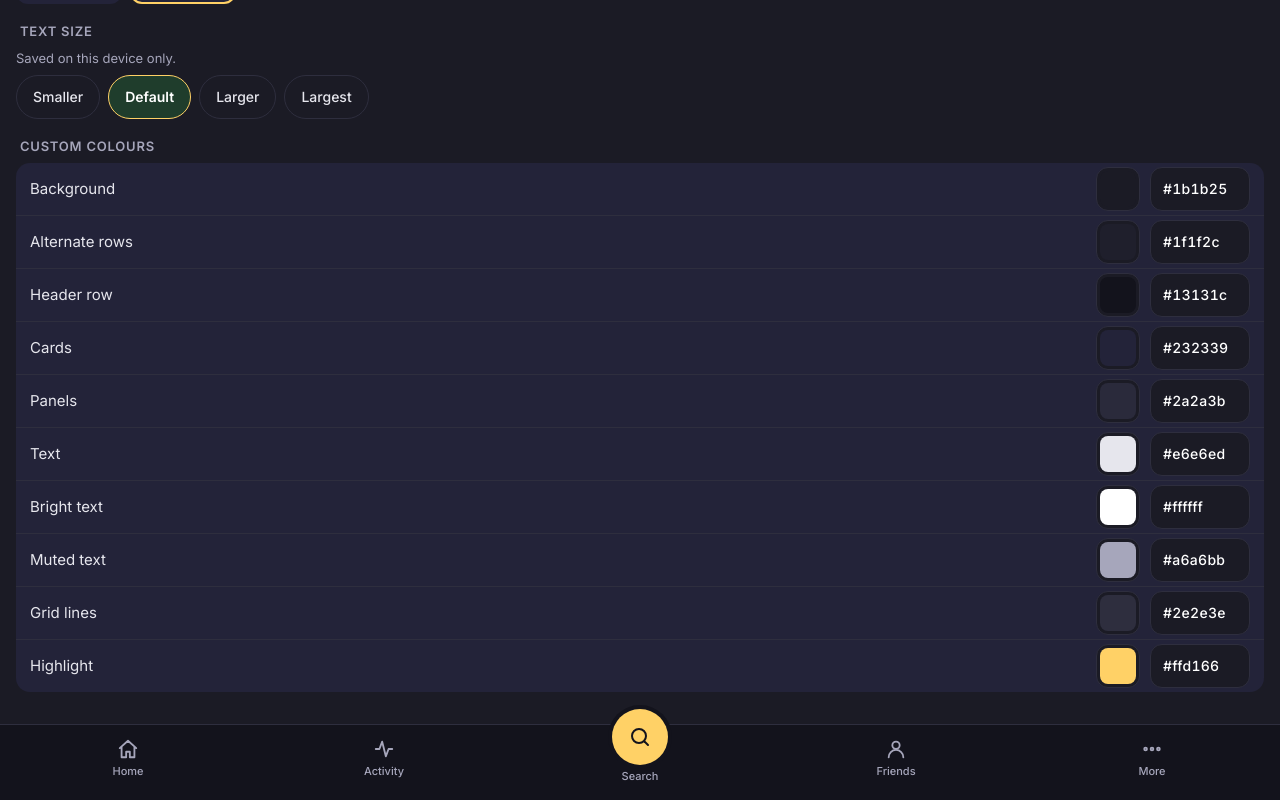
Test: Settings: Custom colours › an invalid hex shows the error and is not saved
(page scrolled)
Replace the text in the field named "Text hex" with "#zzzzzz": (1200, 454) [1150, 432, 1250, 476]
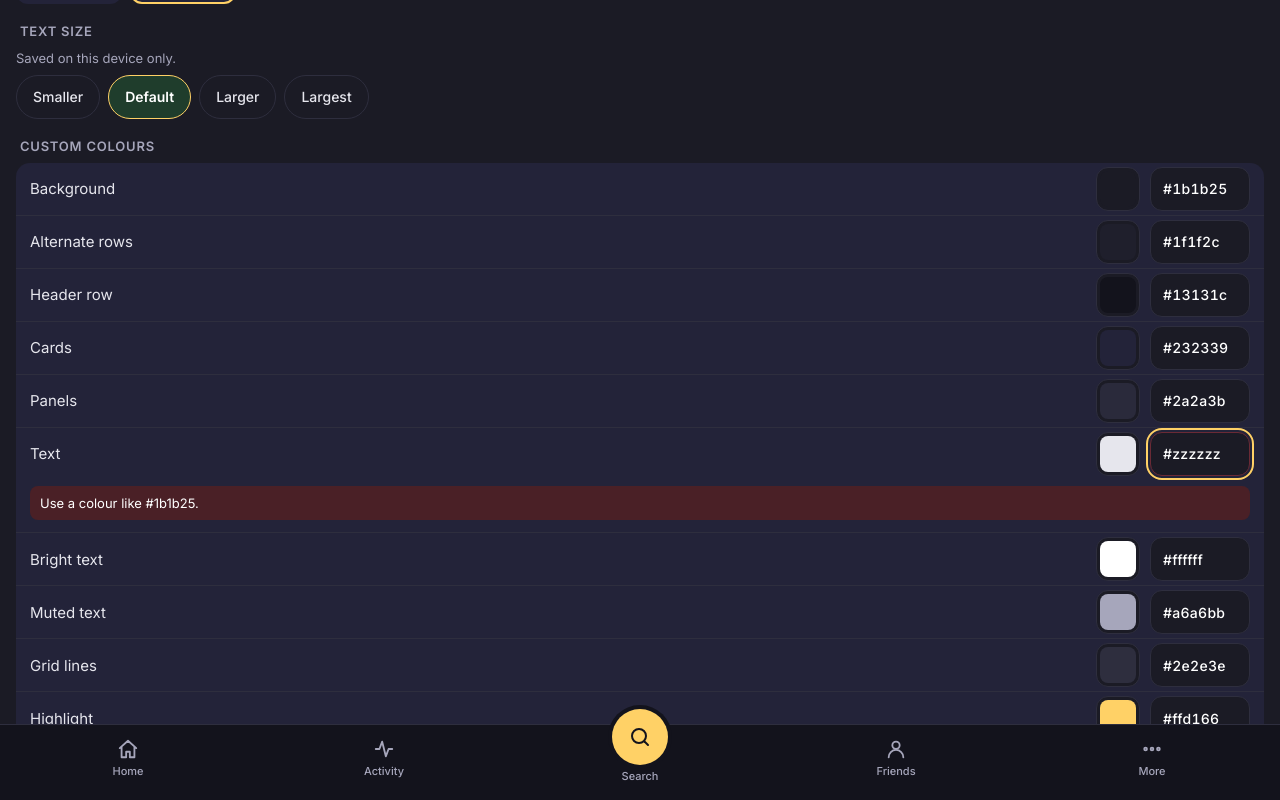
Expected: the text "Use a colour like #1b1b25." is shown, [30, 486, 1250, 520]
